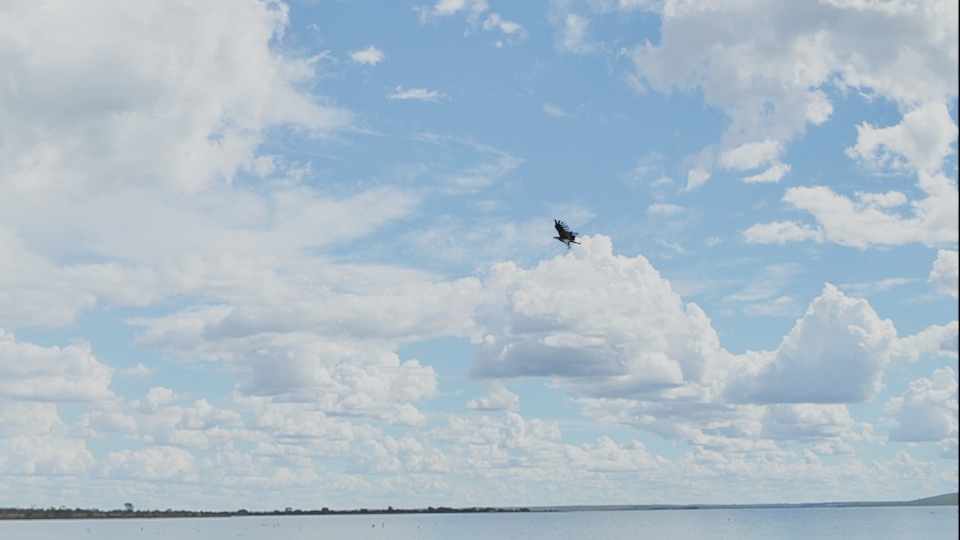bird: (552, 219, 582, 247)
